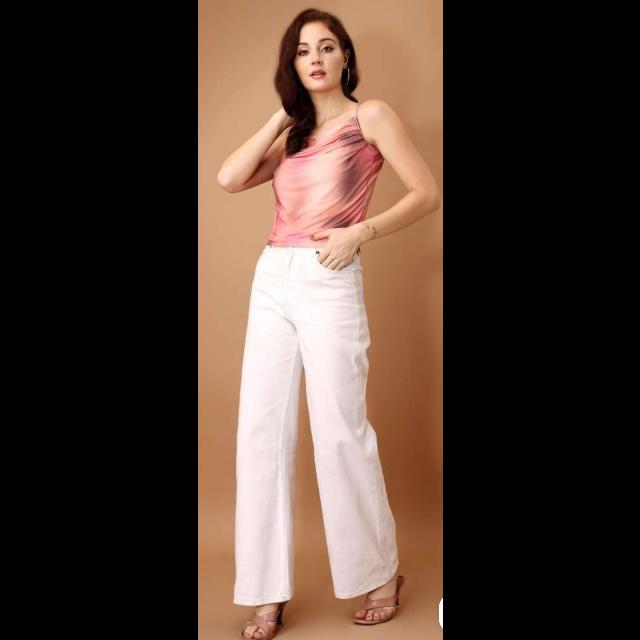bottom: (234, 227, 394, 593)
shoes: (348, 580, 402, 624), (238, 606, 282, 640)
top: (268, 101, 370, 241)
